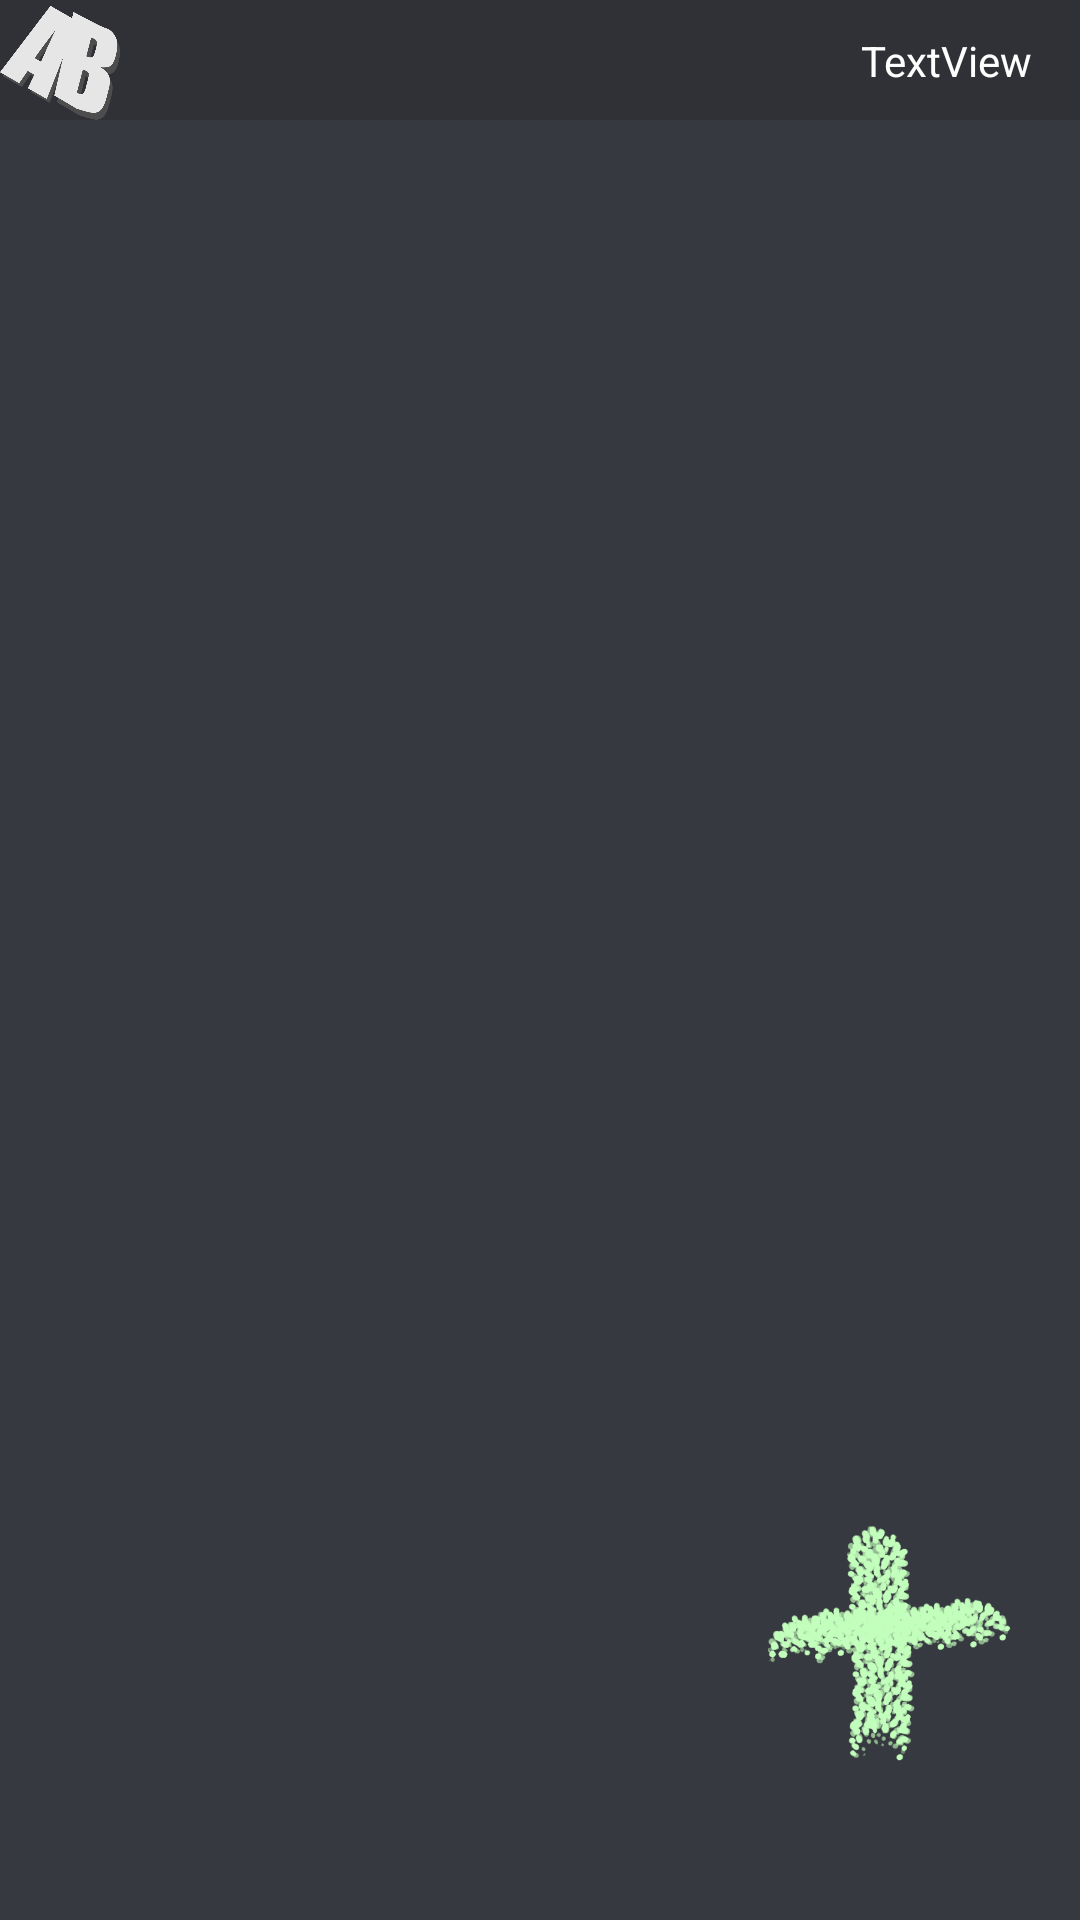

Where icons sit on this 1080×1920 app screen, as box(x1, y1, x2, y2):
add: box(768, 1526, 1010, 1761)
